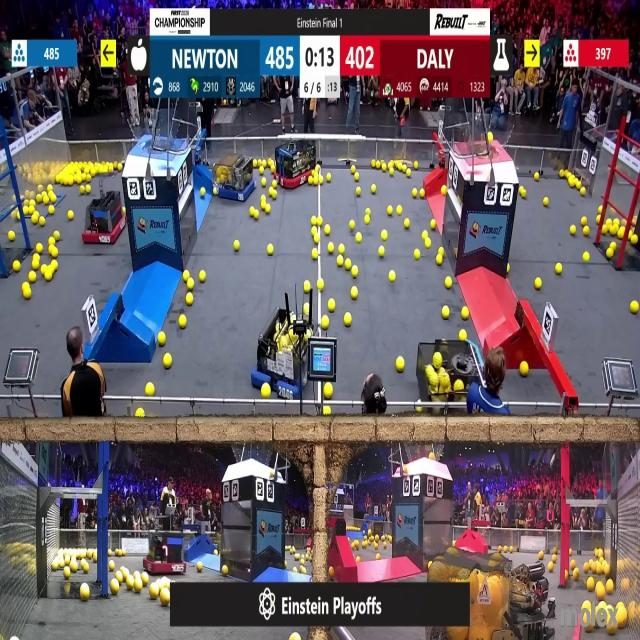ball_airborne: (488, 133, 493, 143), (429, 452, 435, 459)
ball_ground: (617, 610, 628, 630), (161, 590, 171, 608), (80, 586, 89, 602), (596, 586, 606, 600), (148, 586, 158, 600), (23, 284, 32, 299), (323, 384, 332, 399), (606, 623, 616, 636), (110, 581, 119, 595), (396, 357, 404, 372), (145, 383, 154, 396), (521, 361, 529, 375), (165, 353, 172, 368), (263, 385, 271, 398), (605, 582, 613, 595), (444, 306, 451, 320), (630, 302, 638, 314), (159, 334, 167, 346), (32, 260, 40, 272), (141, 572, 149, 584), (588, 579, 595, 592), (556, 264, 563, 276), (179, 316, 186, 328), (534, 278, 541, 290), (345, 314, 352, 326), (29, 272, 36, 284), (312, 248, 319, 260), (135, 582, 142, 594), (127, 577, 134, 589), (322, 316, 328, 329), (185, 293, 192, 304), (459, 329, 466, 340), (327, 243, 334, 254), (12, 262, 19, 273), (619, 228, 626, 239), (571, 568, 578, 579), (568, 177, 575, 188), (603, 564, 610, 575), (235, 240, 241, 252), (351, 287, 357, 299), (328, 300, 334, 312), (305, 281, 311, 293), (352, 267, 358, 279), (136, 410, 144, 419), (387, 271, 393, 283), (584, 600, 592, 609), (316, 216, 324, 225), (186, 280, 193, 290), (446, 278, 453, 288), (435, 254, 442, 264), (606, 249, 613, 259), (36, 244, 43, 254), (317, 280, 324, 290), (49, 247, 56, 257), (338, 256, 345, 266), (44, 272, 51, 282), (75, 174, 82, 184), (380, 246, 386, 257), (200, 272, 206, 283), (221, 565, 227, 576), (462, 308, 468, 319), (304, 304, 310, 315), (414, 249, 420, 260), (50, 262, 56, 273), (64, 567, 70, 578), (82, 562, 88, 573), (388, 169, 396, 177), (324, 408, 331, 417), (108, 562, 115, 571), (116, 573, 123, 582), (269, 245, 275, 255), (340, 244, 346, 254), (570, 224, 576, 234), (584, 252, 590, 262), (182, 271, 188, 281), (324, 224, 330, 234), (68, 210, 74, 220), (542, 198, 548, 208), (403, 218, 409, 228), (55, 232, 61, 242), (584, 225, 590, 235), (32, 214, 38, 224), (350, 220, 356, 230), (346, 262, 352, 272), (632, 236, 638, 246), (49, 192, 55, 202), (44, 196, 50, 206), (588, 624, 594, 634), (610, 224, 616, 234), (81, 173, 87, 183), (259, 194, 266, 202), (8, 233, 14, 242), (396, 206, 402, 215), (308, 176, 314, 185), (363, 215, 369, 224), (39, 217, 45, 226), (382, 232, 388, 241), (258, 167, 264, 176), (579, 217, 585, 226), (538, 552, 544, 561), (87, 184, 93, 193), (40, 265, 46, 274), (564, 569, 570, 578), (87, 174, 93, 183), (33, 195, 39, 204), (68, 178, 74, 187), (356, 234, 361, 244), (443, 184, 448, 194), (356, 186, 361, 196), (199, 563, 204, 573), (272, 188, 277, 198), (585, 563, 590, 573), (328, 567, 333, 577), (413, 188, 419, 196), (534, 173, 540, 181), (260, 202, 266, 210), (609, 242, 615, 250), (354, 174, 360, 182), (579, 187, 585, 195), (407, 170, 413, 178), (318, 176, 324, 184), (414, 163, 420, 171), (314, 166, 320, 174), (212, 187, 218, 195), (388, 207, 393, 216), (250, 208, 255, 217), (79, 184, 84, 193), (602, 224, 607, 233), (549, 563, 554, 572), (312, 225, 317, 234), (423, 230, 428, 239), (314, 237, 320, 244), (596, 216, 602, 223), (24, 208, 30, 215), (599, 602, 606, 608), (365, 208, 371, 215), (598, 207, 604, 214), (420, 188, 425, 196), (370, 184, 375, 192), (48, 207, 53, 215), (267, 206, 272, 214), (430, 220, 435, 228), (326, 174, 331, 182), (570, 560, 575, 568), (299, 566, 304, 574), (356, 556, 361, 564), (120, 162, 125, 170), (370, 162, 375, 170), (584, 616, 589, 624), (312, 216, 316, 225), (426, 240, 430, 249), (522, 188, 526, 197), (48, 238, 53, 245), (440, 248, 445, 255), (351, 167, 356, 174), (47, 184, 52, 191), (294, 554, 299, 561), (264, 181, 268, 189), (202, 187, 206, 195), (273, 180, 277, 188), (269, 160, 273, 168), (214, 552, 219, 558), (377, 554, 381, 561), (553, 555, 557, 562), (560, 171, 564, 178), (108, 550, 112, 557), (568, 550, 572, 557), (506, 266, 509, 275), (292, 568, 296, 574), (284, 562, 288, 568)
goal: (461, 118, 518, 158), (128, 116, 186, 152)
robot_blue: (254, 311, 313, 399), (214, 152, 256, 204)
robot_red: (416, 339, 473, 415), (272, 139, 317, 191), (84, 194, 127, 244), (146, 530, 192, 575)
